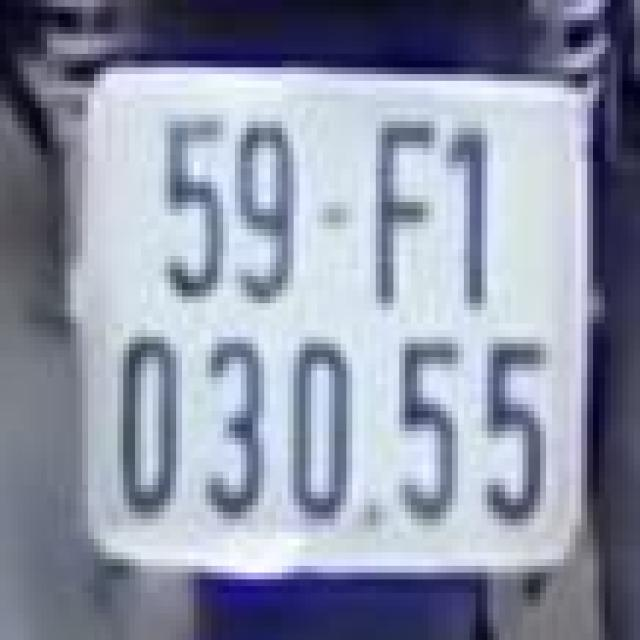0: (114, 333, 185, 529), (294, 333, 352, 529)
1: (440, 125, 505, 320)
3: (206, 334, 270, 522)
5: (478, 317, 560, 532), (390, 334, 467, 536), (156, 108, 232, 303)
9: (226, 115, 302, 316)
F: (361, 111, 443, 313)
